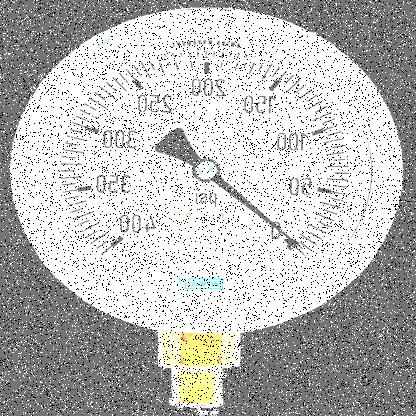needle: (212, 176, 305, 251)
